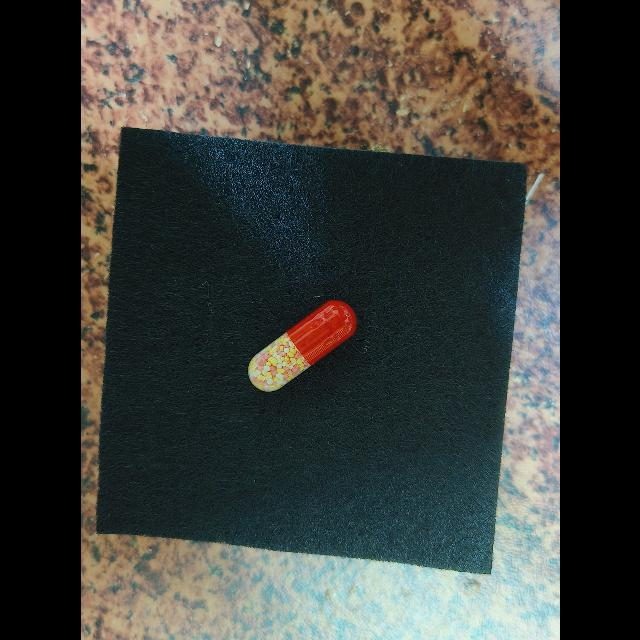Intact Capsule: (247, 300, 356, 392)
